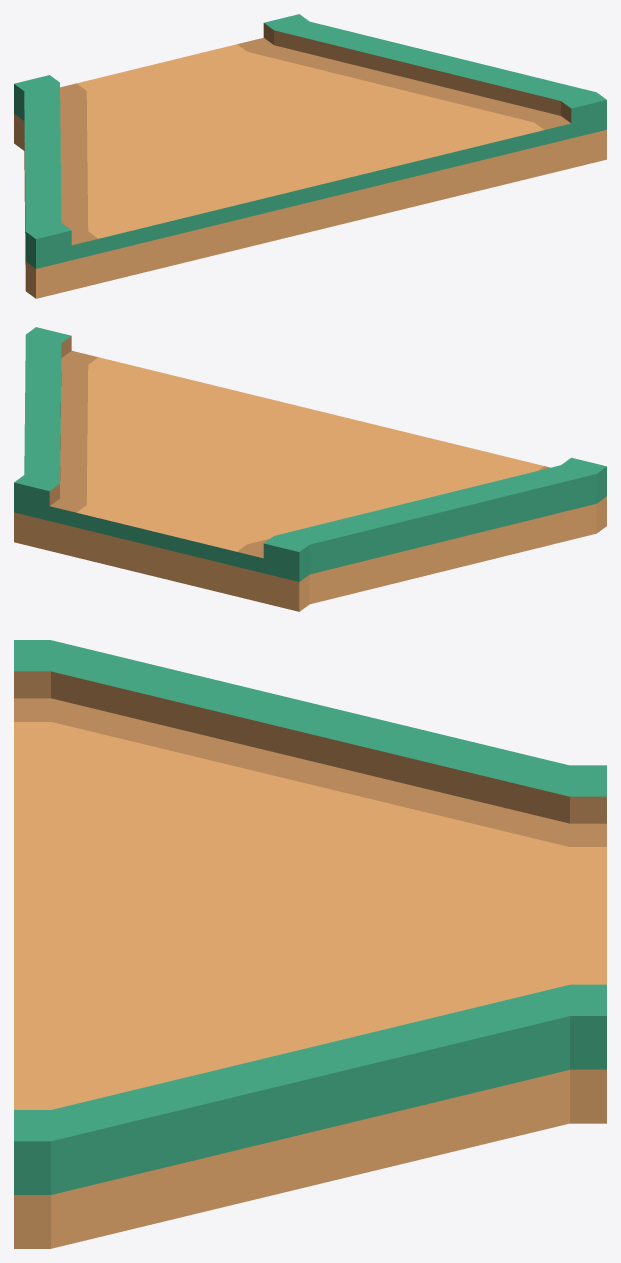
The model's file is tile_wideTransition.dae.
The picture shows the model from 3 angles, top to bottom: view 1: azimuth 30°, elevation 25°; view 2: azimuth 150°, elevation 25°; view 3: azimuth 270°, elevation 25°; orthographic projection. The views are drawn at different scales.
Visible parts, largest first — view 1: tile_wideTransition; view 2: tile_wideTransition; view 3: tile_wideTransition.
Boxes of the visible parts, box(x1,y1,x2,y2) form: tile_wideTransition: box(14, 14, 606, 298); tile_wideTransition: box(14, 327, 606, 611); tile_wideTransition: box(14, 640, 606, 1248).
Bounding box in the file's own units: 2 × 0.2 × 1.
